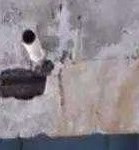Spalling: (1, 58, 55, 101)
